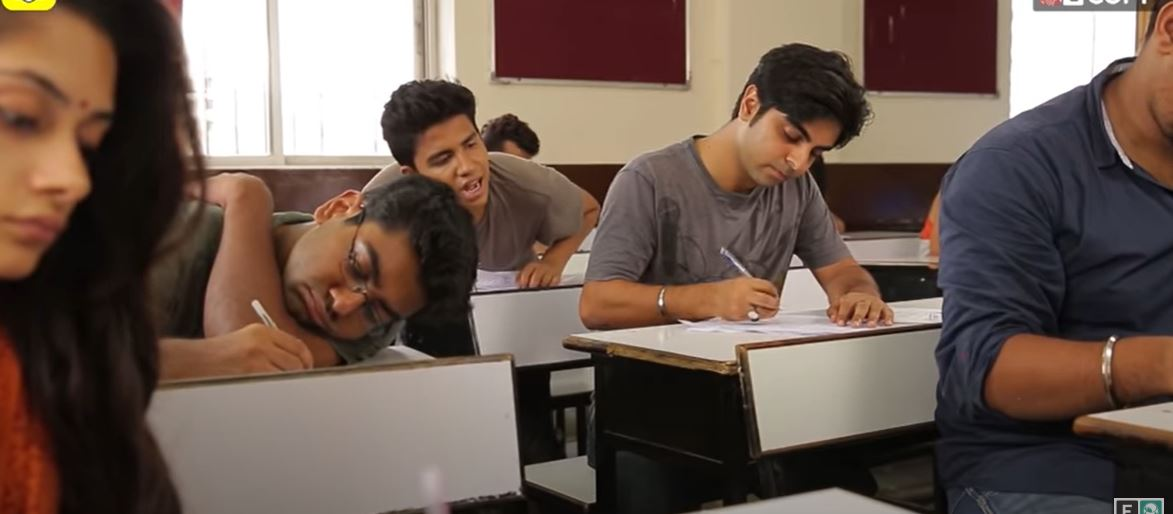student: (614, 91, 884, 348)
studentcopying: (368, 98, 587, 267)
studentsleep: (171, 188, 503, 437)
